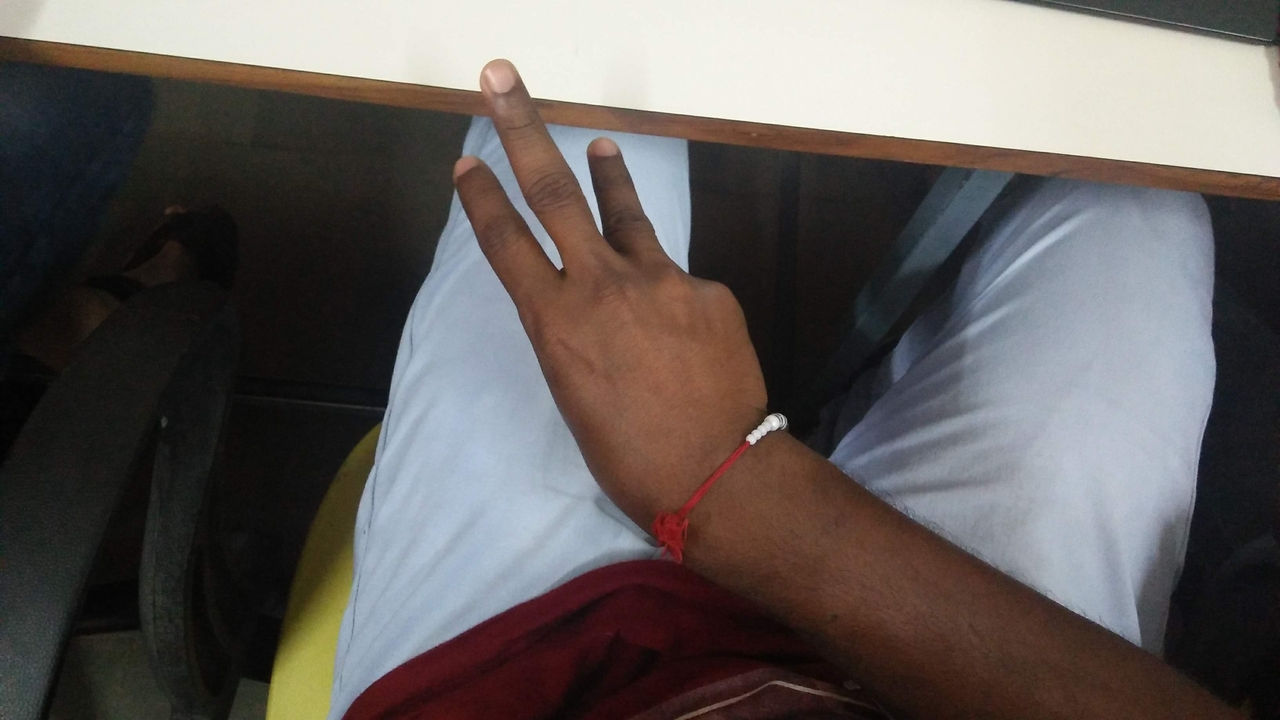fingertip: (578, 126, 636, 170), (472, 54, 526, 100), (447, 147, 494, 187)
